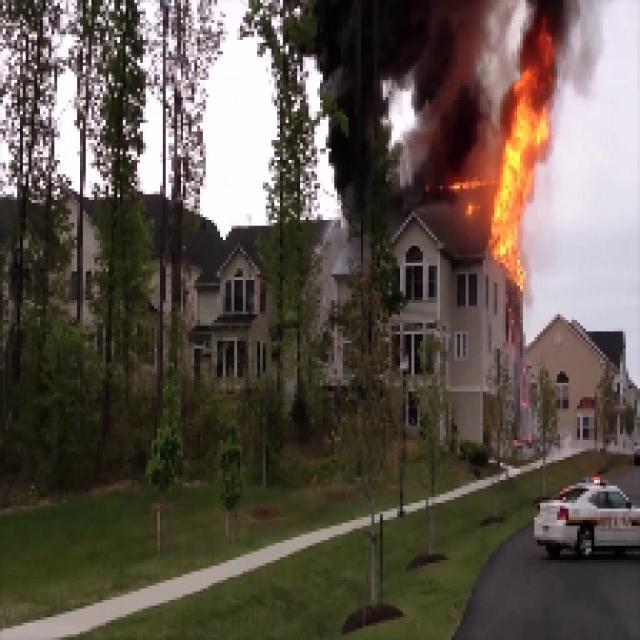fire: (486, 75, 546, 277)
smoke: (328, 2, 480, 188)
